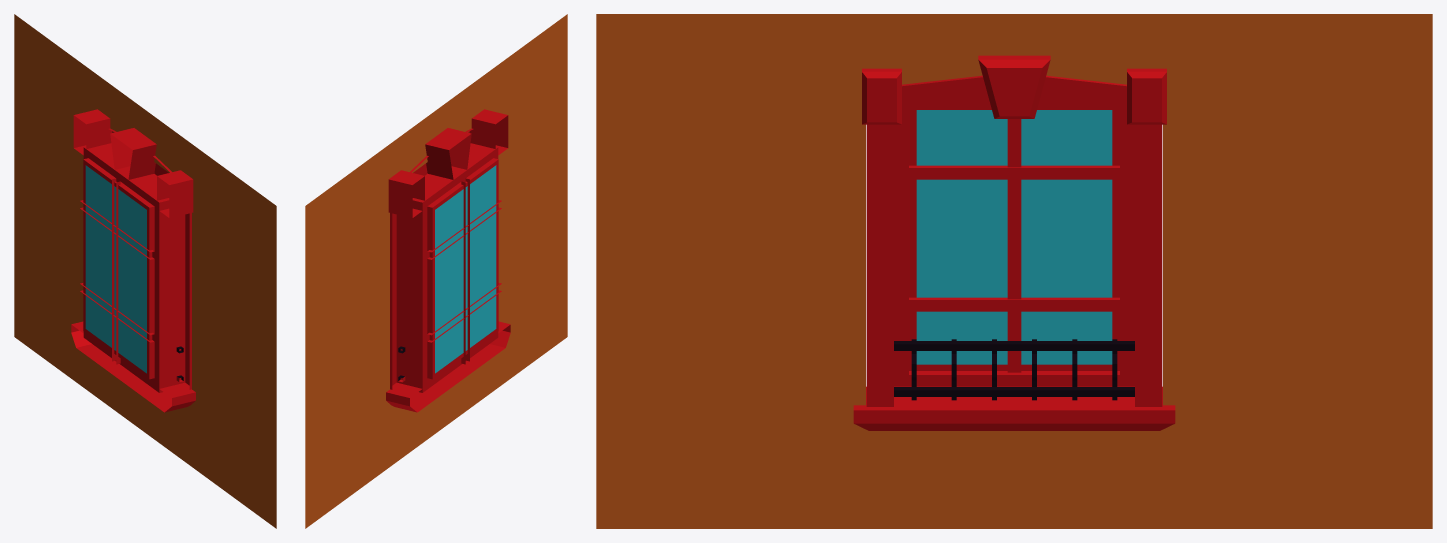
Rendered from NY_wallWindow 1.obj.
The picture shows the model from 3 angles, left to right: view 1: azimuth 30°, elevation 25°; view 2: azimuth 150°, elevation 25°; view 3: azimuth 270°, elevation 25°; orthographic projection. The views are drawn at different scales.
Visible parts, largest first — view 1: A_EXPO.obj.002_wall, A_EXPO.obj.002_frame, A_EXPO.obj.002_glass; view 2: A_EXPO.obj.002_wall, A_EXPO.obj.002_frame, A_EXPO.obj.002_glass; view 3: A_EXPO.obj.002_wall, A_EXPO.obj.002_frame, A_EXPO.obj.002_glass, A_EXPO.obj.002_barrels.
Part boxes in pixels (bbox=[...]): A_EXPO.obj.002_wall: bbox=[14, 14, 276, 528]; A_EXPO.obj.002_frame: bbox=[71, 109, 195, 412]; A_EXPO.obj.002_glass: bbox=[85, 165, 146, 373]; A_EXPO.obj.002_wall: bbox=[305, 14, 567, 528]; A_EXPO.obj.002_frame: bbox=[386, 109, 510, 412]; A_EXPO.obj.002_glass: bbox=[435, 165, 496, 373]; A_EXPO.obj.002_wall: bbox=[596, 14, 1432, 528]; A_EXPO.obj.002_frame: bbox=[853, 55, 1175, 430]; A_EXPO.obj.002_glass: bbox=[916, 110, 1112, 364]; A_EXPO.obj.002_barrels: bbox=[894, 339, 1134, 400].
Bounding box in the file's own units: 0.268 × 2.06 × 3.03.
